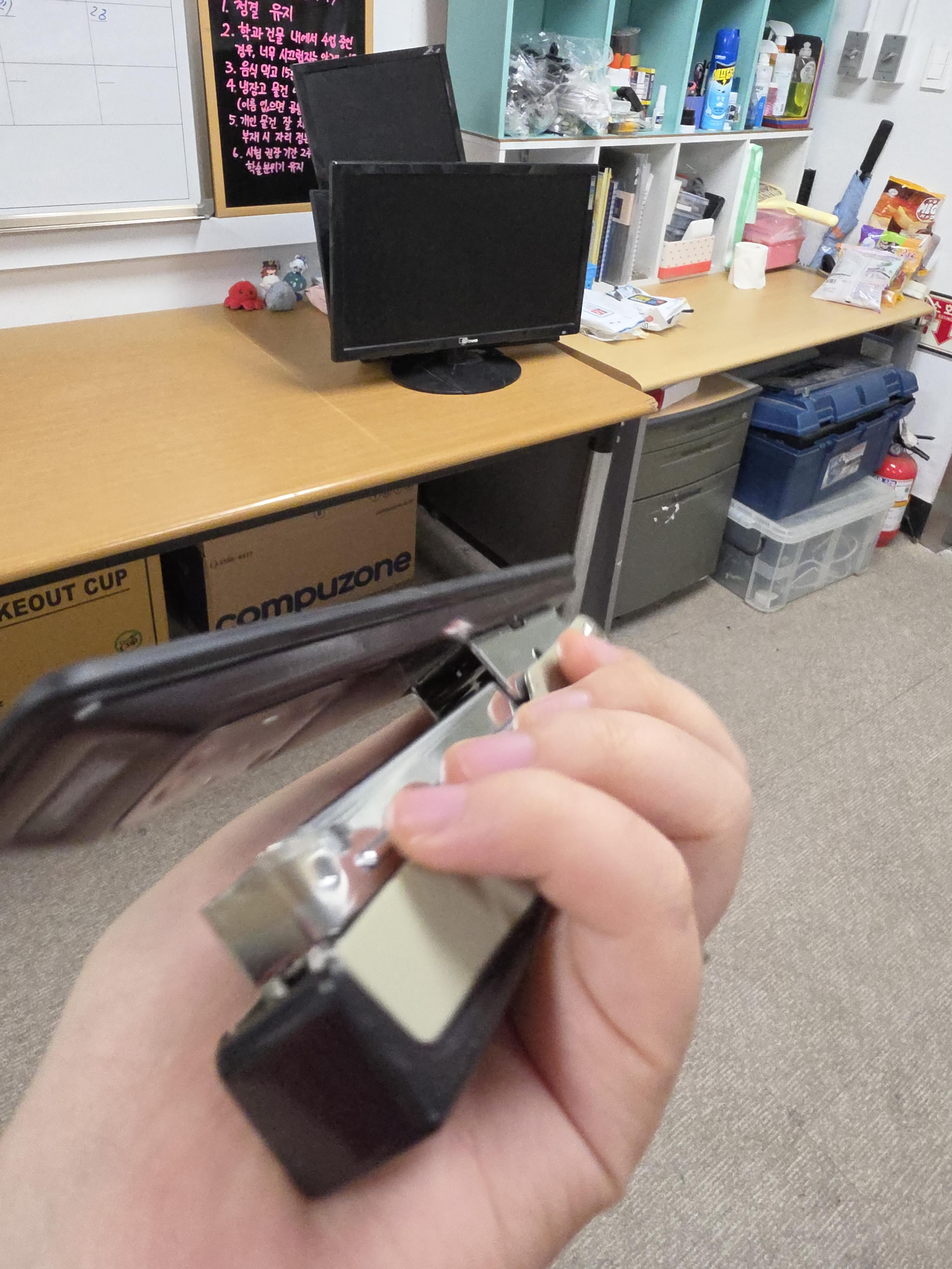stapler: (0, 553, 602, 1200)
tissue: (658, 218, 715, 280), (728, 241, 769, 290)
